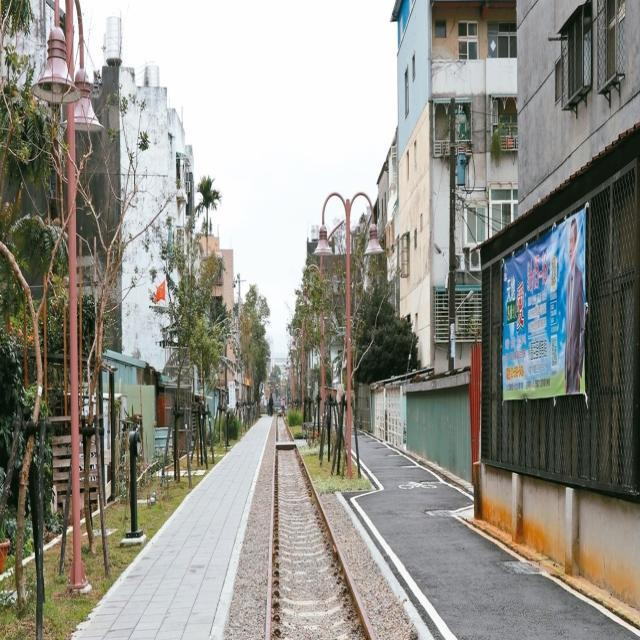rail-track: (270, 418, 365, 639)
